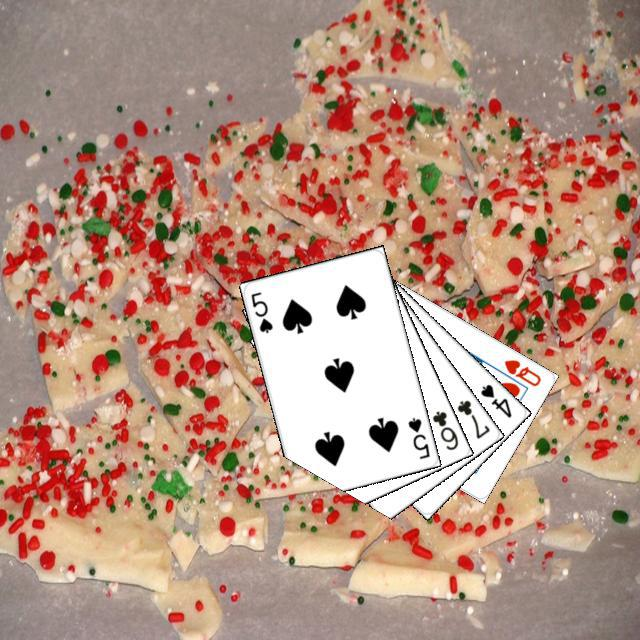4s: (475, 379, 513, 420)
5s: (403, 412, 431, 461), (246, 287, 274, 335)
6c: (427, 406, 460, 452)
7c: (452, 395, 492, 440)
Qh: (499, 354, 543, 388)
